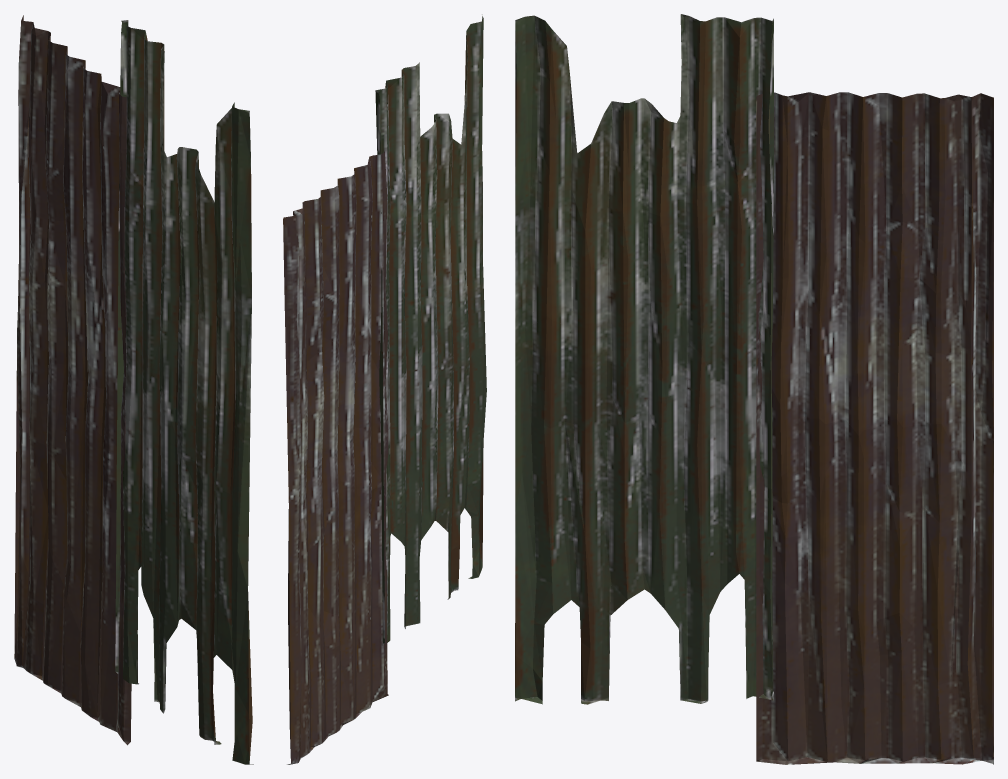
File: SM_Corrugated_Metal_4.fbx
The picture shows the model from 3 angles, left to right: view 1: azimuth 30°, elevation 25°; view 2: azimuth 150°, elevation 25°; view 3: azimuth 270°, elevation 25°; orthographic projection. The views are drawn at different scales.
Parts seen in each view (by area): view 1: SM_Corrugated_Metal_4_LOD0; view 2: SM_Corrugated_Metal_4_LOD0; view 3: SM_Corrugated_Metal_4_LOD0.
Part boxes in pixels (box(x1,y1,x2,y2)): SM_Corrugated_Metal_4_LOD0: box(14, 15, 253, 764); SM_Corrugated_Metal_4_LOD0: box(283, 14, 486, 764); SM_Corrugated_Metal_4_LOD0: box(515, 14, 993, 764).
Size of the model in its own units: 5.21 by 125 by 215.
Materials: 1 (1 with a texture image).
